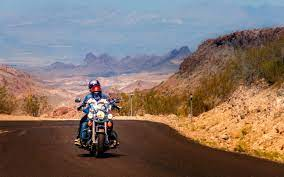moto: (79, 101, 120, 154)
person: (85, 79, 111, 106)
